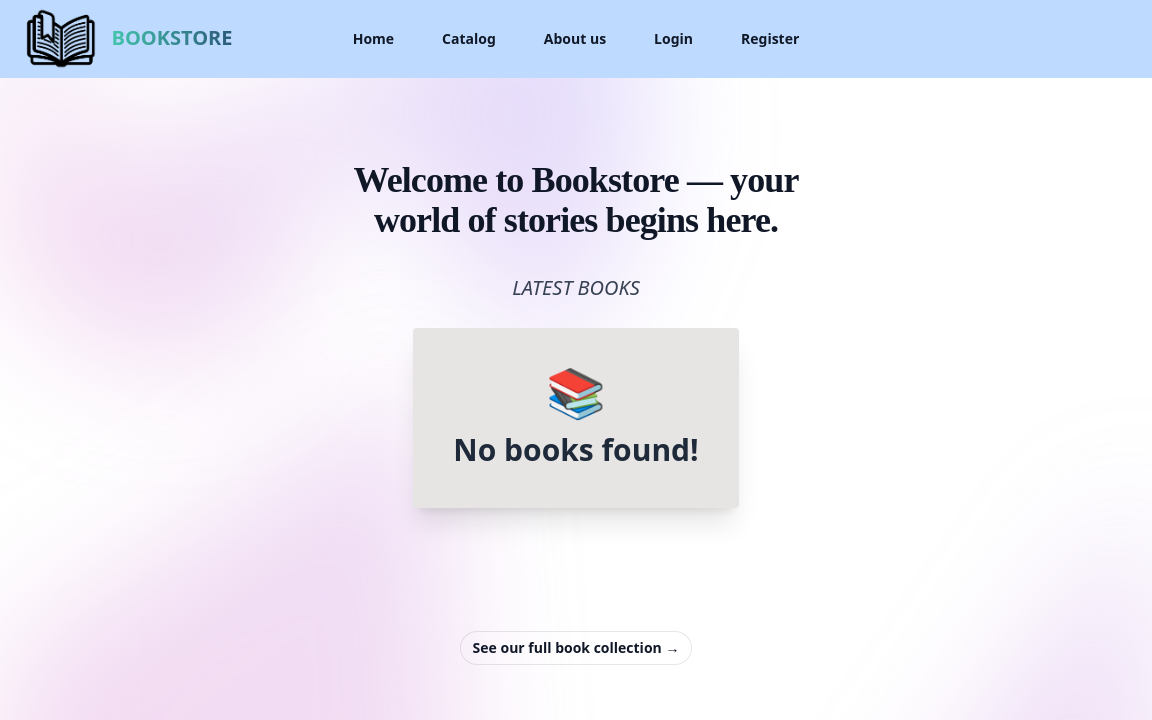
App › Load navigation pages correctly › About page
Click the link "About us" at coordinates (575, 39), box [544,27,606,51]
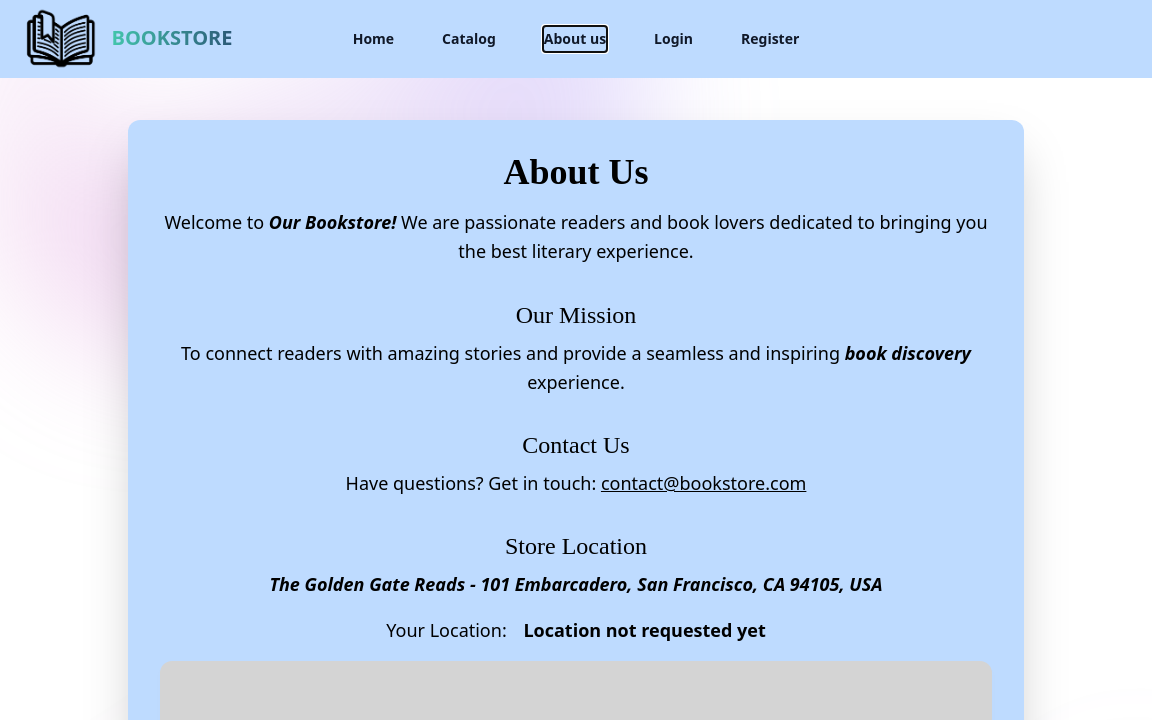
Expected: the heading "About Us" is shown, [504,152,648,192]
